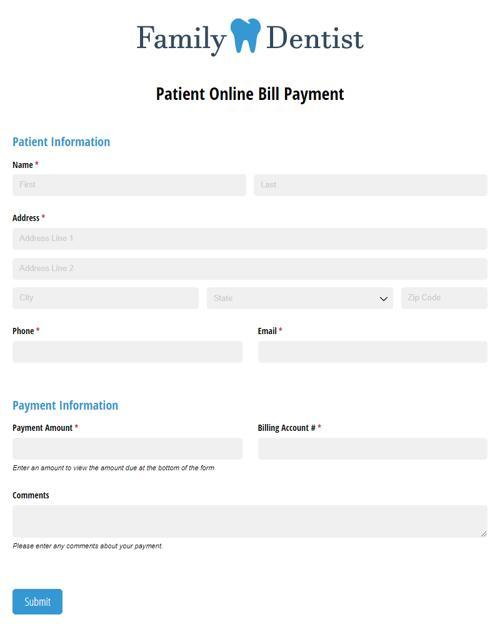button: (15, 590, 65, 616)
dropdown: (207, 288, 395, 311)
input: (12, 505, 490, 540), (16, 229, 489, 251), (14, 259, 488, 280), (13, 438, 245, 463), (259, 340, 490, 365), (259, 438, 486, 462), (256, 175, 491, 197), (16, 341, 245, 363), (16, 178, 247, 198), (15, 287, 200, 309), (403, 290, 488, 310)
label: (147, 79, 356, 113), (9, 128, 128, 155), (10, 397, 125, 418), (13, 464, 219, 474), (12, 542, 166, 554), (253, 417, 331, 438), (11, 489, 60, 507), (12, 423, 86, 434), (8, 157, 48, 174), (8, 321, 46, 338), (9, 208, 50, 223), (254, 322, 287, 339)
